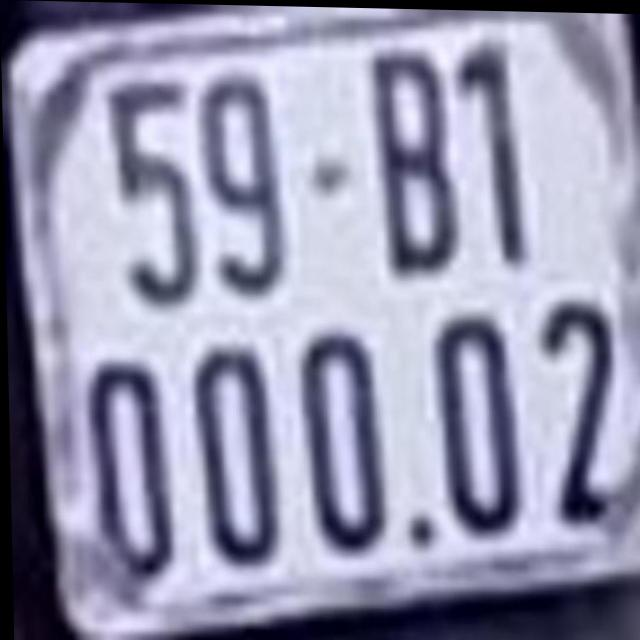0: (79, 352, 175, 589), (299, 327, 389, 567), (187, 340, 279, 574), (432, 310, 516, 532)
1: (457, 34, 536, 284)
2: (537, 282, 635, 532)
5: (105, 78, 193, 305)
9: (194, 72, 293, 299)
B: (365, 37, 460, 283)
